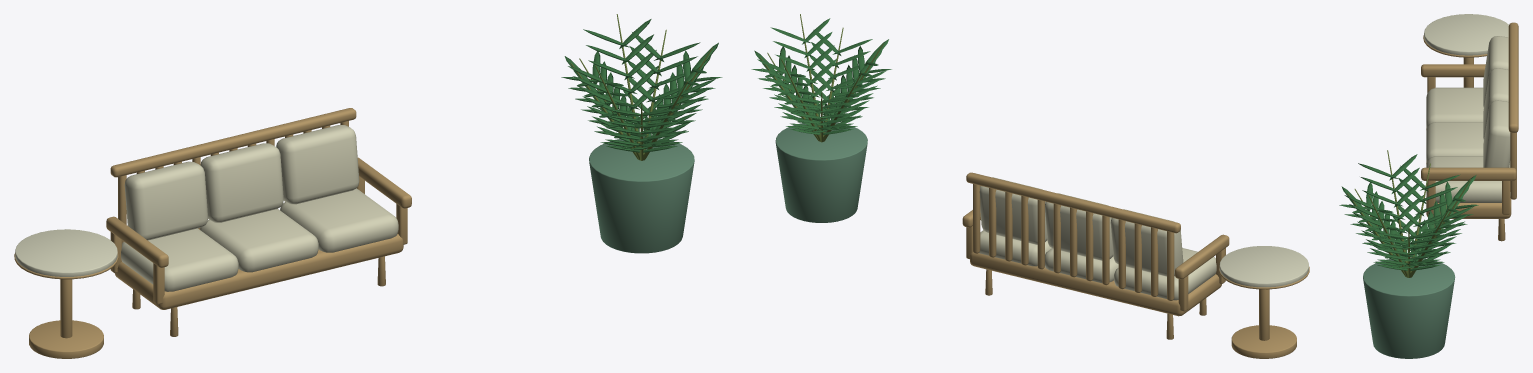
File: glasshouse-furniture.glb
3 renders of one model, left to right at view 1: azimuth 30°, elevation 25°; view 2: azimuth 150°, elevation 25°; view 3: azimuth 270°, elevation 25°, orthographic. The views are drawn at different scales.
Visible parts, largest first — view 1: Individual tailored seat cushion, Floating bench frame, Glazed botanical planter, Fine palm leaflet, Honed stone side table, Arching palm stem; view 2: Floating bench frame, Individual tailored seat cushion, Glazed botanical planter, Fine palm leaflet, Honed stone side table, Arching palm stem; view 3: Individual tailored seat cushion, Glazed botanical planter, Fine palm leaflet, Floating bench frame, Honed stone side table, Arching palm stem.
Boxes of the visible parts, left/top/right/bottom form: Individual tailored seat cushion: left=121, top=125, right=398, bottom=291; Floating bench frame: left=14, top=108, right=411, bottom=358; Glazed botanical planter: left=589, top=137, right=694, bottom=253; Fine palm leaflet: left=561, top=19, right=722, bottom=152; Honed stone side table: left=15, top=229, right=117, bottom=276; Arching palm stem: left=570, top=14, right=712, bottom=160; Floating bench frame: left=962, top=172, right=1309, bottom=358; Individual tailored seat cushion: left=979, top=177, right=1216, bottom=300; Glazed botanical planter: left=775, top=121, right=867, bottom=222; Fine palm leaflet: left=751, top=18, right=891, bottom=134; Honed stone side table: left=1219, top=246, right=1308, bottom=287; Arching palm stem: left=759, top=14, right=883, bottom=142; Individual tailored seat cushion: left=1426, top=36, right=1510, bottom=202; Glazed botanical planter: left=1363, top=257, right=1455, bottom=358; Fine palm leaflet: left=1339, top=154, right=1478, bottom=270; Floating bench frame: left=1421, top=22, right=1518, bottom=241; Honed stone side table: left=1424, top=14, right=1508, bottom=55; Arching palm stem: left=1347, top=150, right=1470, bottom=277.
Bounding box in the file's own units: 4.42 × 1.25 × 1.2.
